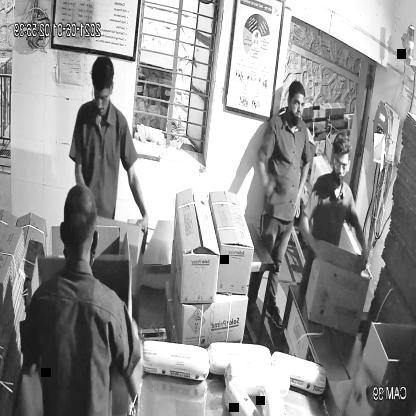goggles: (331, 149, 353, 175)
